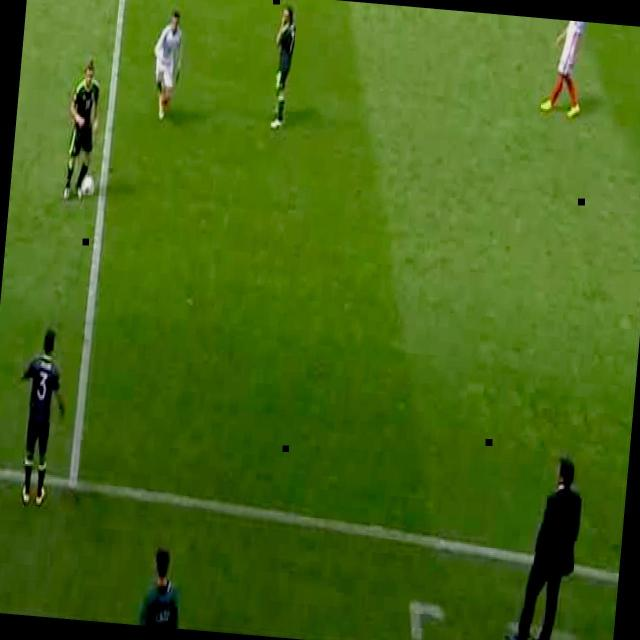ball: (80, 173, 97, 204)
player-white: (6, 327, 72, 507), (63, 60, 104, 206), (541, 19, 589, 117), (148, 12, 185, 122), (269, 1, 299, 131)
